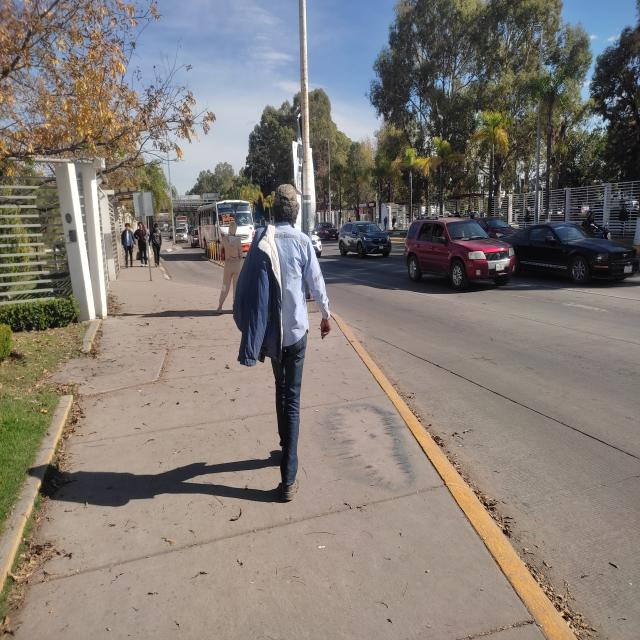3: (215, 174, 364, 524), (151, 219, 173, 270), (117, 213, 136, 268), (133, 211, 151, 269)
Auto: (398, 196, 517, 310), (512, 212, 633, 296), (328, 208, 395, 269)
Autobus: (184, 198, 261, 266)
